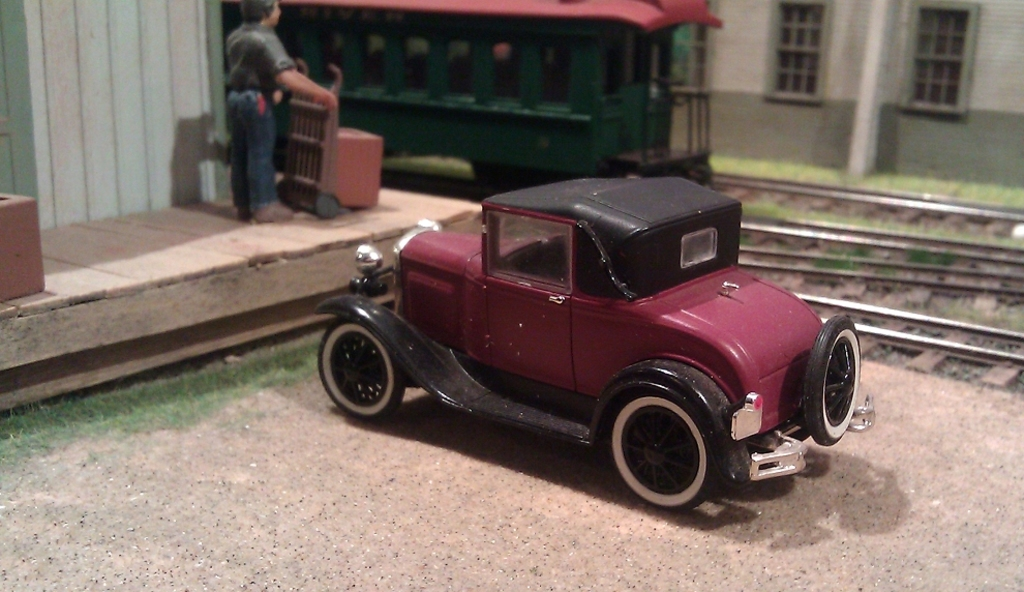Wheel: (600, 389, 720, 520), (312, 316, 411, 427), (800, 314, 863, 449)
